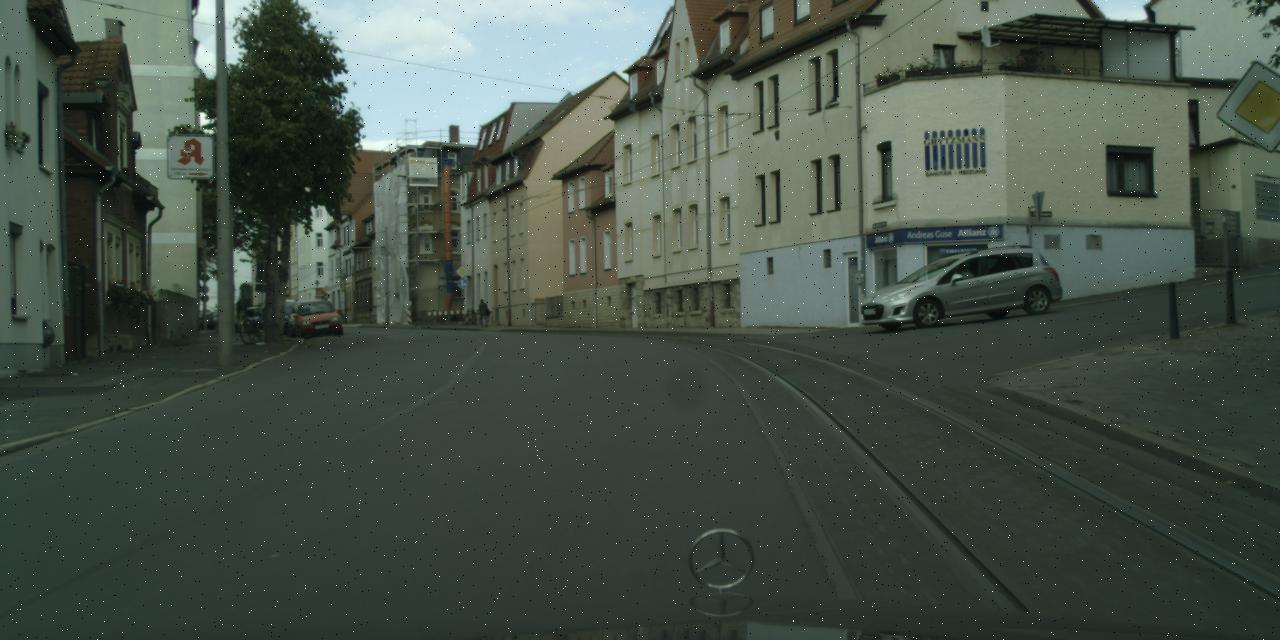ped: (477, 298, 488, 326)
